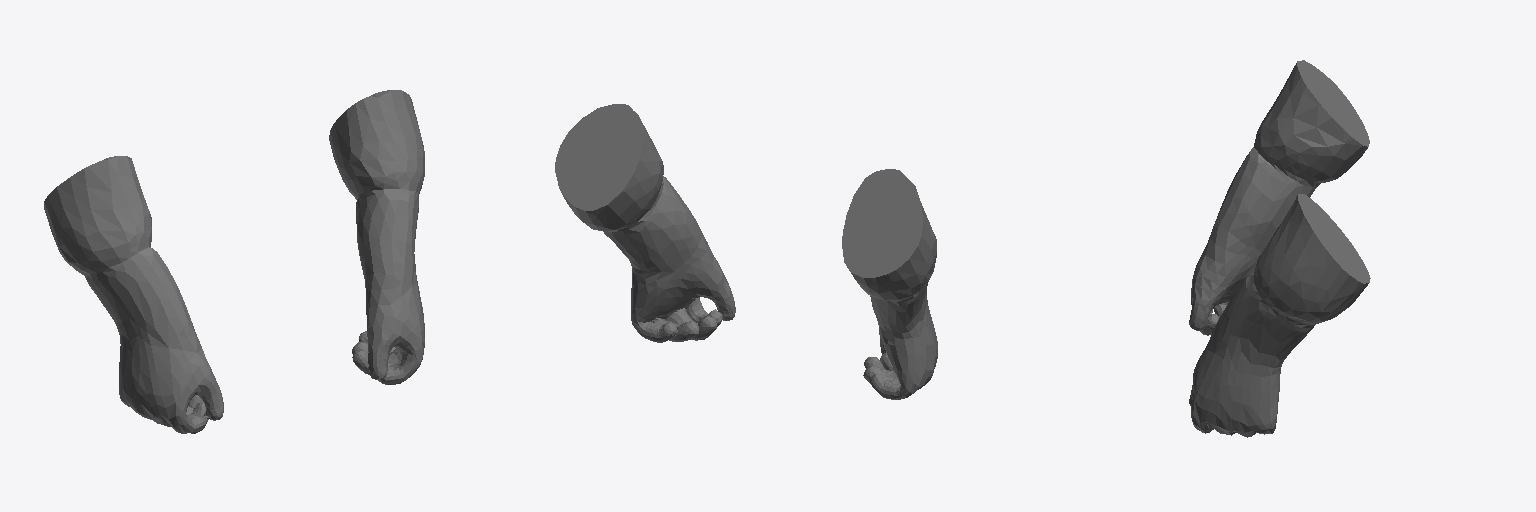
The model's file is GTR_Driver2SmoothArms.obj.
The picture shows the model from 3 angles: view 1: azimuth 30°, elevation 25°; view 2: azimuth 150°, elevation 25°; view 3: azimuth 270°, elevation 25°; orthographic projection.
Visible parts, largest first — view 1: Object.2, Object.1; view 2: Object.1, Object.2; view 3: Object.1, Object.2.
Boxes of the visible parts, x1=… form: Object.2: x1=44, y1=156, x2=223, y2=433; Object.1: x1=329, y1=90, x2=424, y2=384; Object.1: x1=555, y1=104, x2=735, y2=342; Object.2: x1=842, y1=169, x2=937, y2=399; Object.1: x1=1189, y1=194, x2=1370, y2=437; Object.2: x1=1189, y1=60, x2=1369, y2=335.
Bounding box in the file's own units: 12.64 × 8.41 × 5.48.